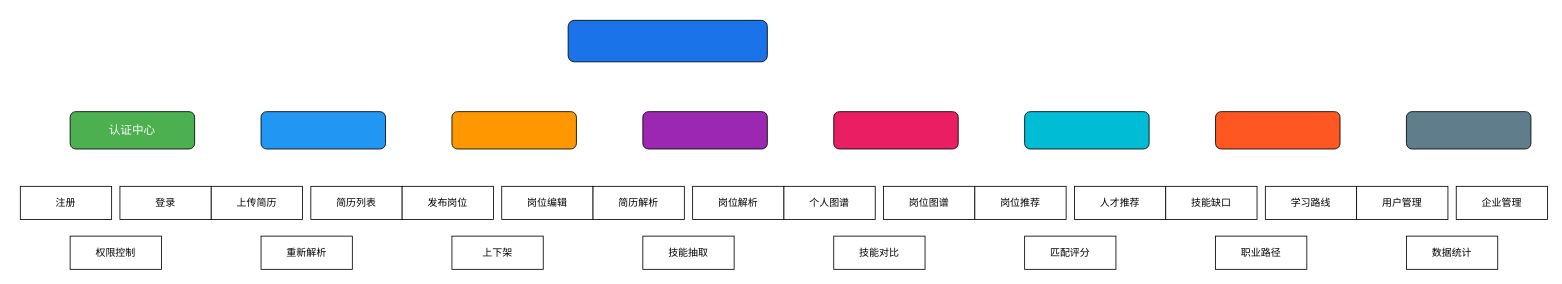
This 1562x284 diagram has some shape labels left out. Here are the shapes that lost their labels. From the top down, the box of each, then its label:
(567, 20, 767, 62): 智聘星图
(260, 111, 386, 149): 简历中心
(451, 111, 576, 149): 岗位中心
(642, 111, 767, 149): AI解析中心
(833, 111, 958, 149): 能力图谱中心
(1024, 111, 1149, 149): 推荐中心
(1215, 111, 1340, 149): 职业规划中心
(1406, 111, 1531, 149): 后台管理中心
